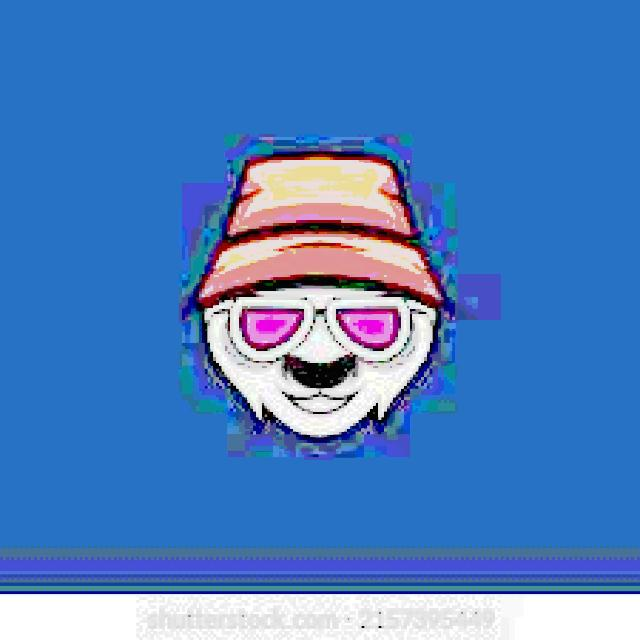TOPI: (173, 137, 458, 317)
